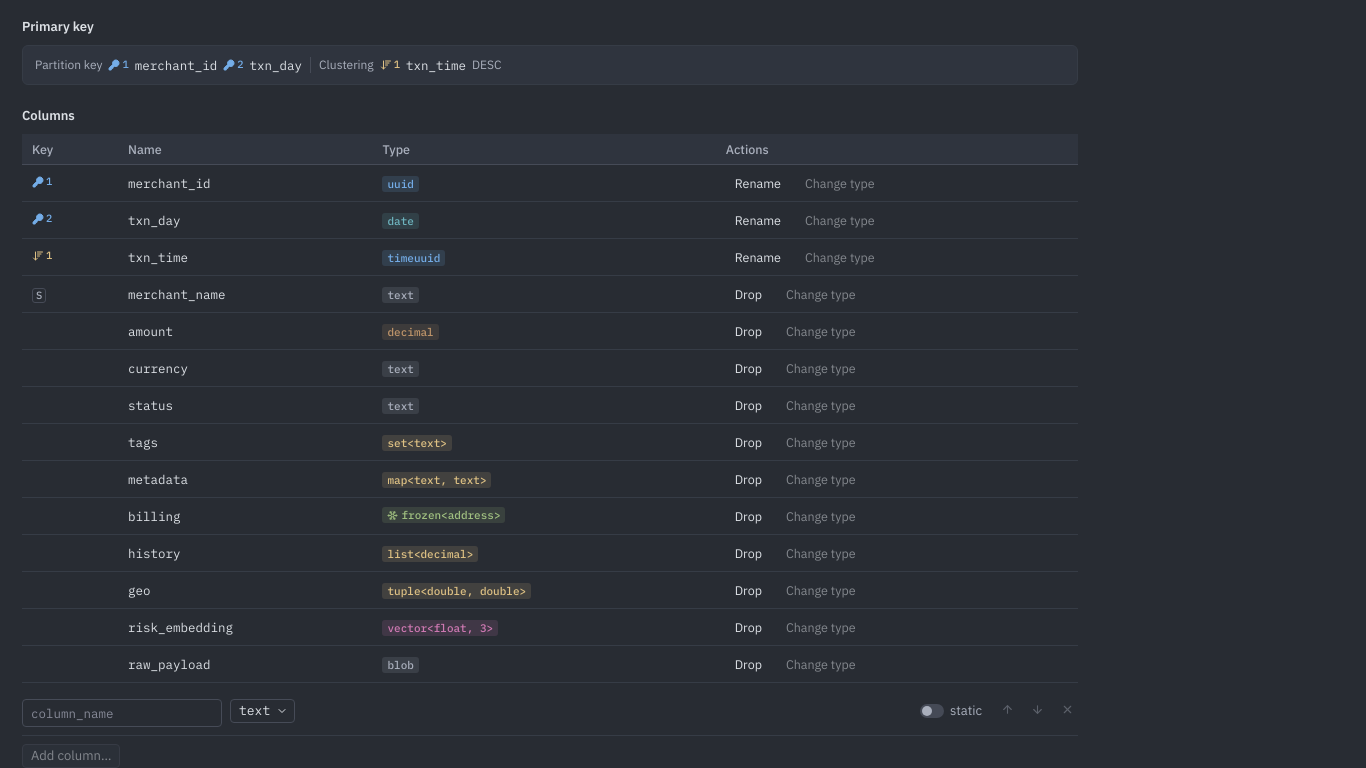
Test: SchemaSheet › edit mode: rename on key columns, drop on others, type change disabled, add column row
This screenshot has width=1366, height=768.
Check: the button "Add column…" is disabled, box [22,744,120,767]
Type "phone" into the field named "Column 1 name".
click(122, 713); type("phone")  # box [22,699,222,727]
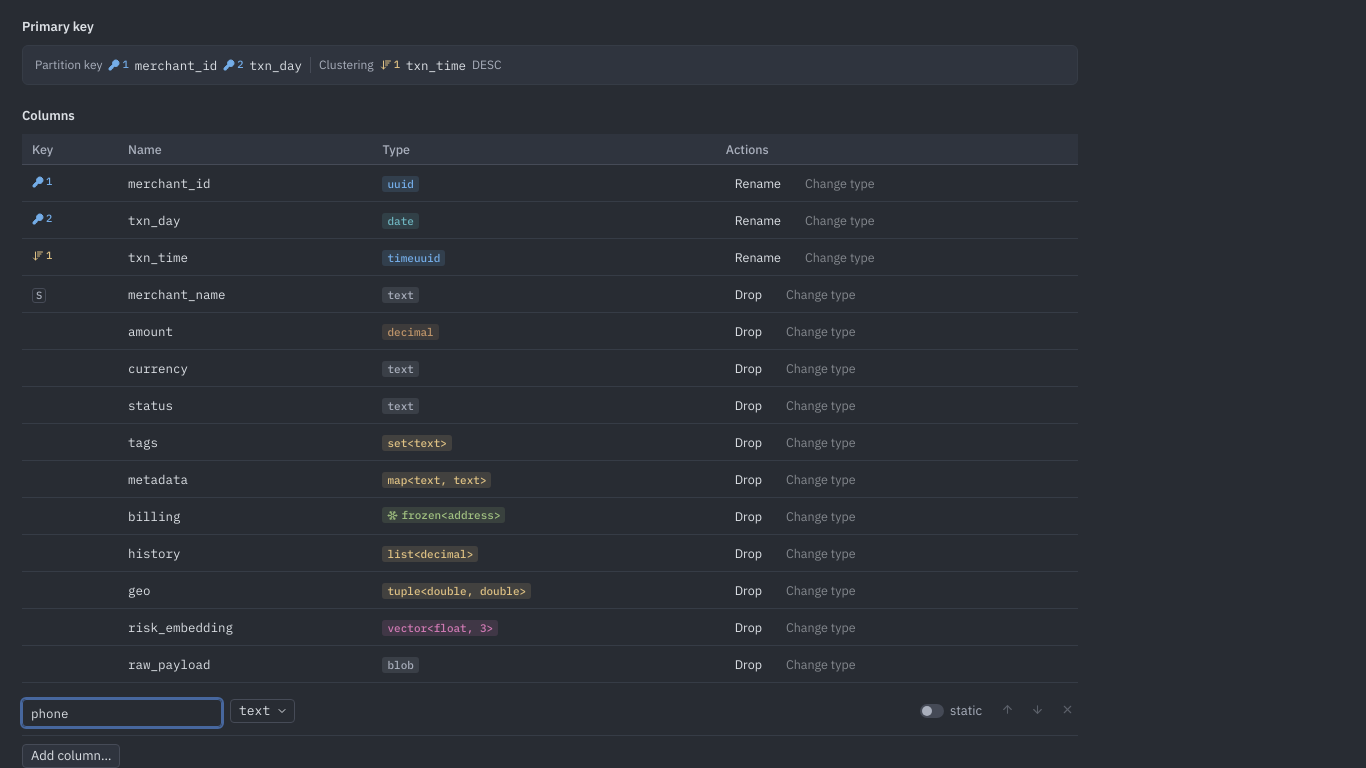
Check: the button "Add column…" is enabled, box [22,744,120,767]
